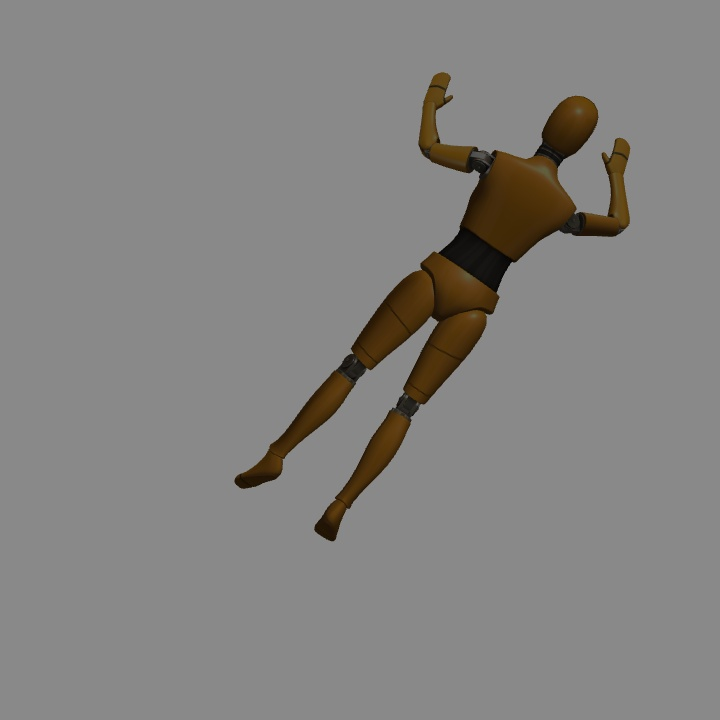victim: (235, 88, 633, 541)
